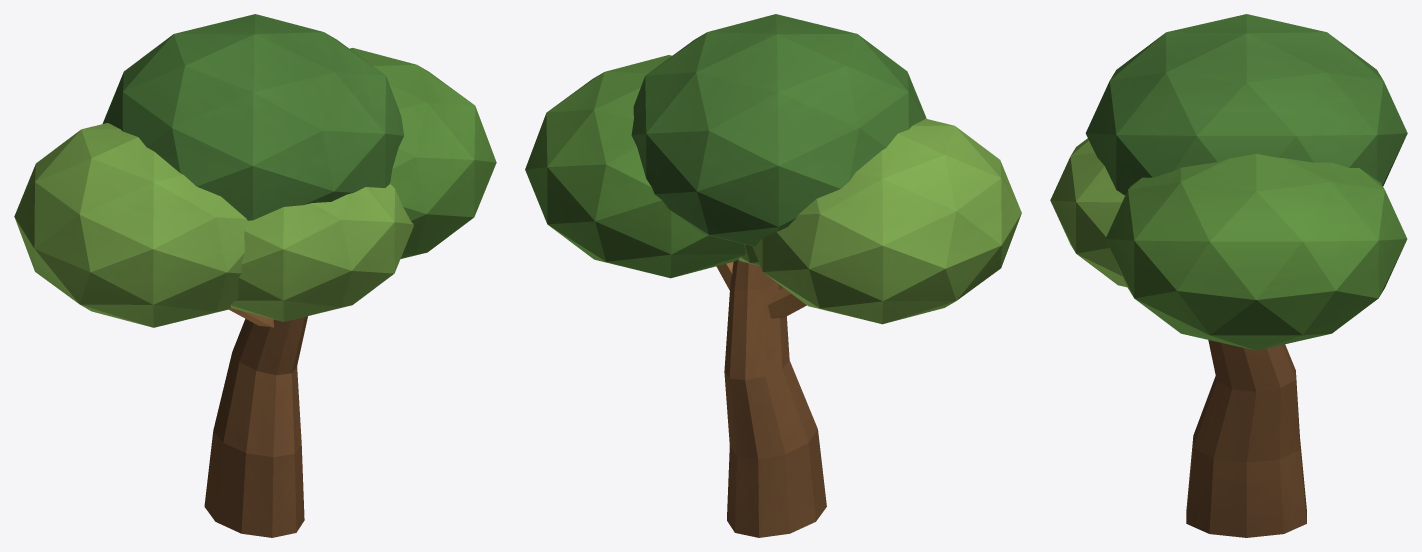
File: boom_eik.glb
3 views of the same model, side by side, from view 1: azimuth 30°, elevation 25°; view 2: azimuth 150°, elevation 25°; view 3: azimuth 270°, elevation 25° (orthographic).
Visible parts, largest first — view 1: world; view 2: world; view 3: world.
Part boxes in pixels (left/top/right/bottom): world: left=14, top=14, right=496, bottom=537; world: left=525, top=14, right=1021, bottom=537; world: left=1050, top=14, right=1407, bottom=537.
Size of the model in its own units: 7.23 by 7.4 by 4.94.
Materials: 1 (1 with a texture image).
